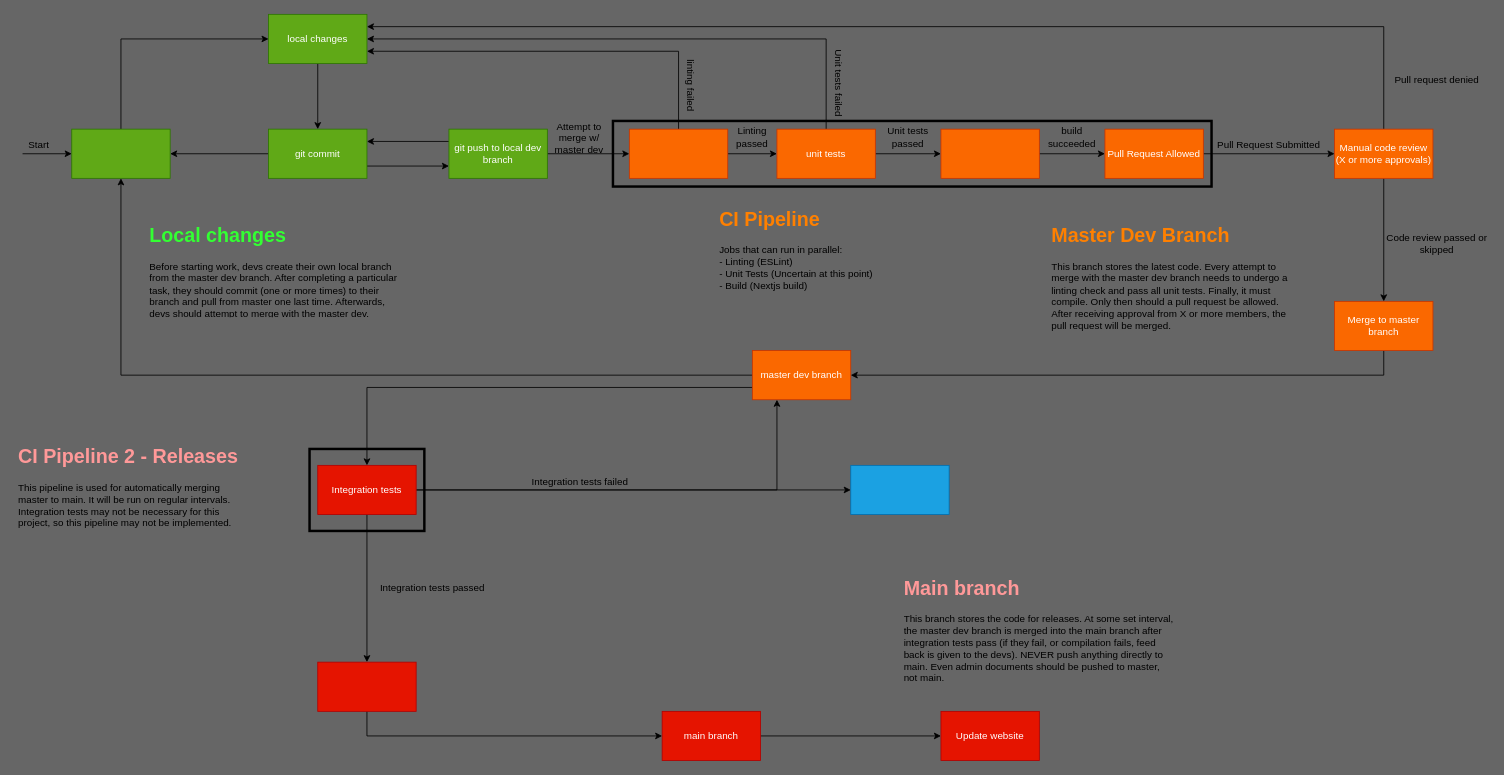
This 1504x775 diagram has some shape labels left out. The shapes that lost their labels are listed below. From the top down, each one's centre as x and y in pixels, then its label:
the point at 120,153: git pull from master dev branch
the point at 678,153: linter
the point at 989,153: build
the point at 899,490: Feedback to devs
the point at 366,686: Merge with main branch
